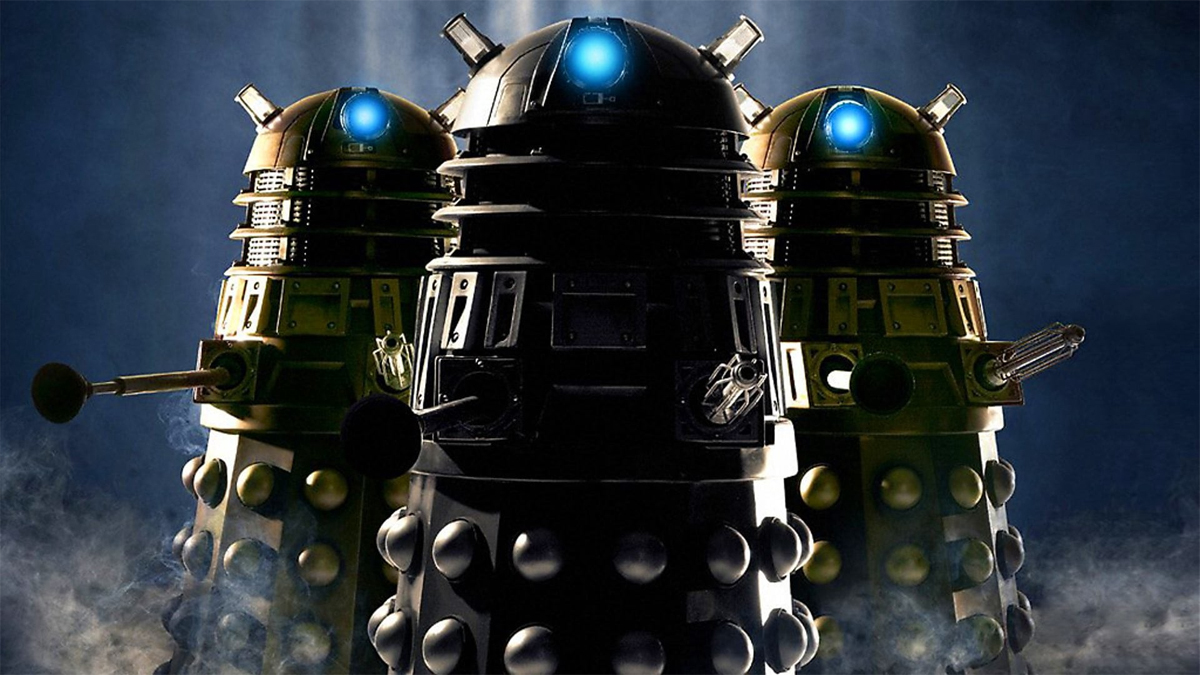dalek: (411, 0, 731, 675), (728, 65, 1050, 672), (146, 30, 447, 612)
